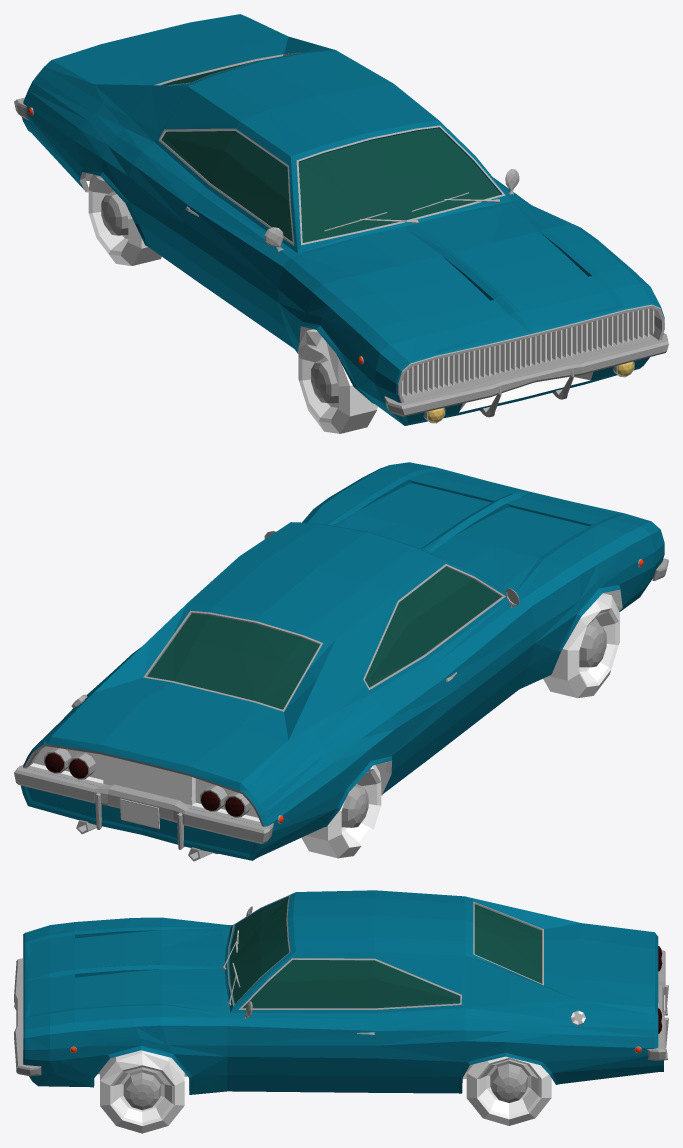
File: MuscleCar_04.FBX
3 renders of one model, top to bottom at view 1: azimuth 30°, elevation 25°; view 2: azimuth 150°, elevation 25°; view 3: azimuth 270°, elevation 25°, orthographic. The views are drawn at different scales.
Visible parts, largest first — view 1: MuscleCar_04, grill, wheel_f_r, bumper_f, wheel_b_r; view 2: MuscleCar_04, bumper_b, wheel_f_r, wheel_b_r, tailLights, lights, licensePlate_b; view 3: MuscleCar_04, wheel_f_l, wheel_b_l, bumper_f, bumper_b.
Part boxes in pixels (left/top/right/bottom): MuscleCar_04: left=22, top=14, right=664, bottom=425; grill: left=401, top=308, right=654, bottom=396; wheel_f_r: left=298, top=329, right=377, bottom=433; bumper_f: left=384, top=333, right=668, bottom=417; wheel_b_r: left=88, top=174, right=161, bottom=265; MuscleCar_04: left=20, top=462, right=664, bottom=860; bumper_b: left=14, top=764, right=273, bottom=849; wheel_f_r: left=543, top=593, right=619, bottom=698; wheel_b_r: left=301, top=765, right=381, bottom=858; tailLights: left=44, top=753, right=243, bottom=816; lights: left=44, top=559, right=642, bottom=823; licensePlate_b: left=119, top=798, right=159, bottom=828; MuscleCar_04: left=23, top=890, right=663, bottom=1094; wheel_f_l: left=100, top=1050, right=184, bottom=1133; wheel_b_l: left=466, top=1056, right=551, bottom=1125; bumper_f: left=14, top=958, right=41, bottom=1076; bumper_b: left=647, top=950, right=668, bottom=1060.
Bounding box in the file's own units: 25.07 × 16.51 × 60.16.
